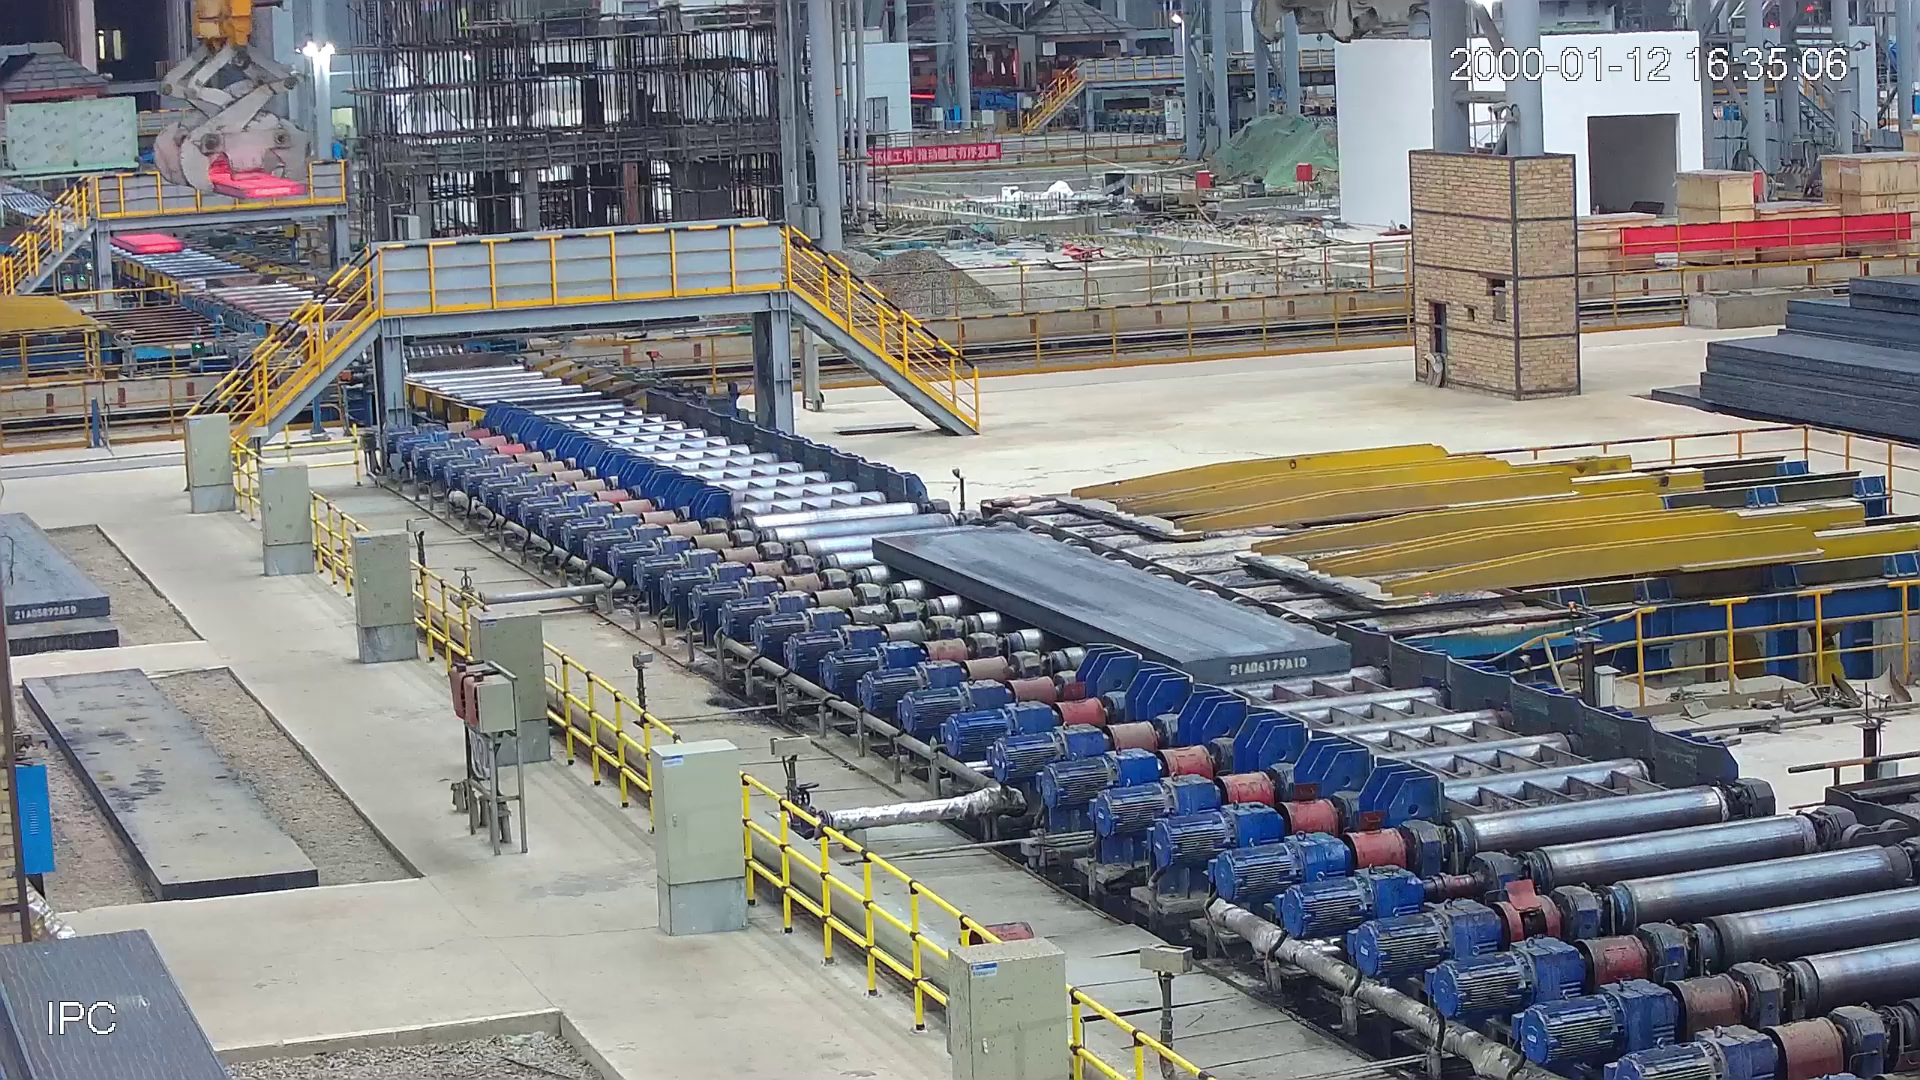craneandslab: (153, 1, 320, 204)
slab: (868, 526, 1356, 686)
